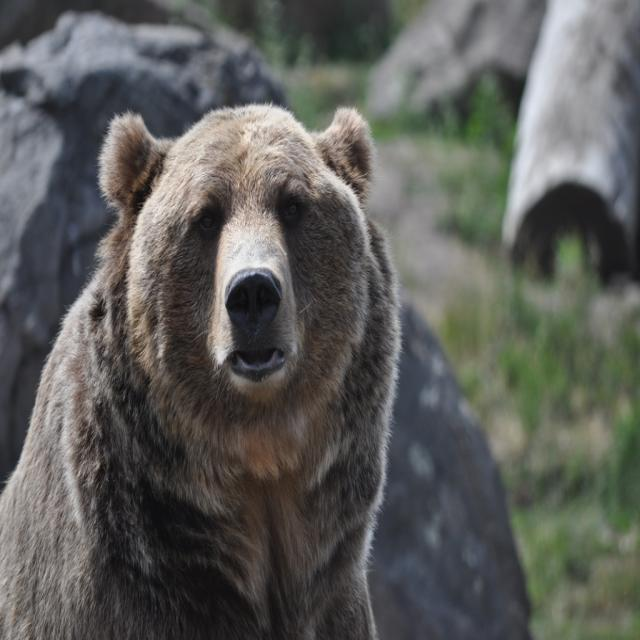Cheetahs: (1, 99, 408, 639)
